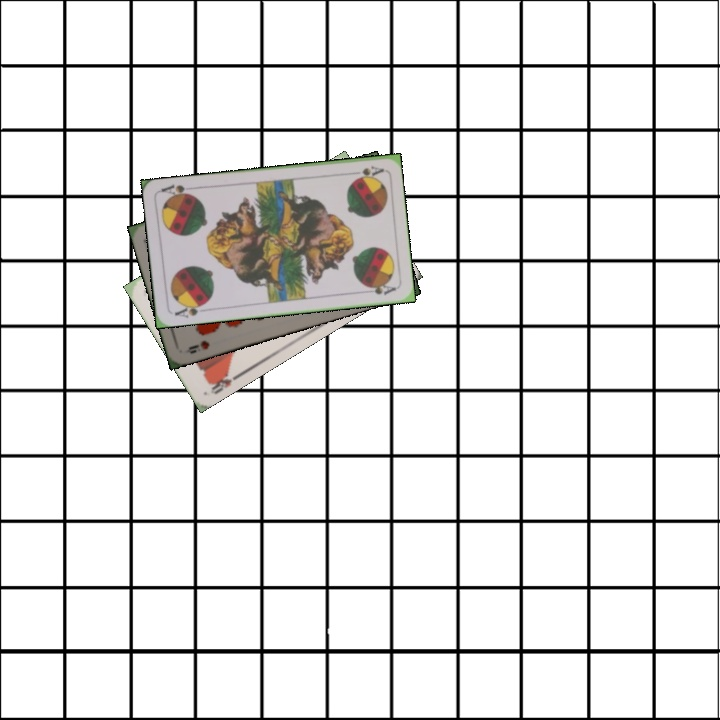H9: (185, 336, 212, 356)
HO: (205, 368, 243, 397)
SA: (170, 298, 210, 320), (345, 162, 385, 181)
